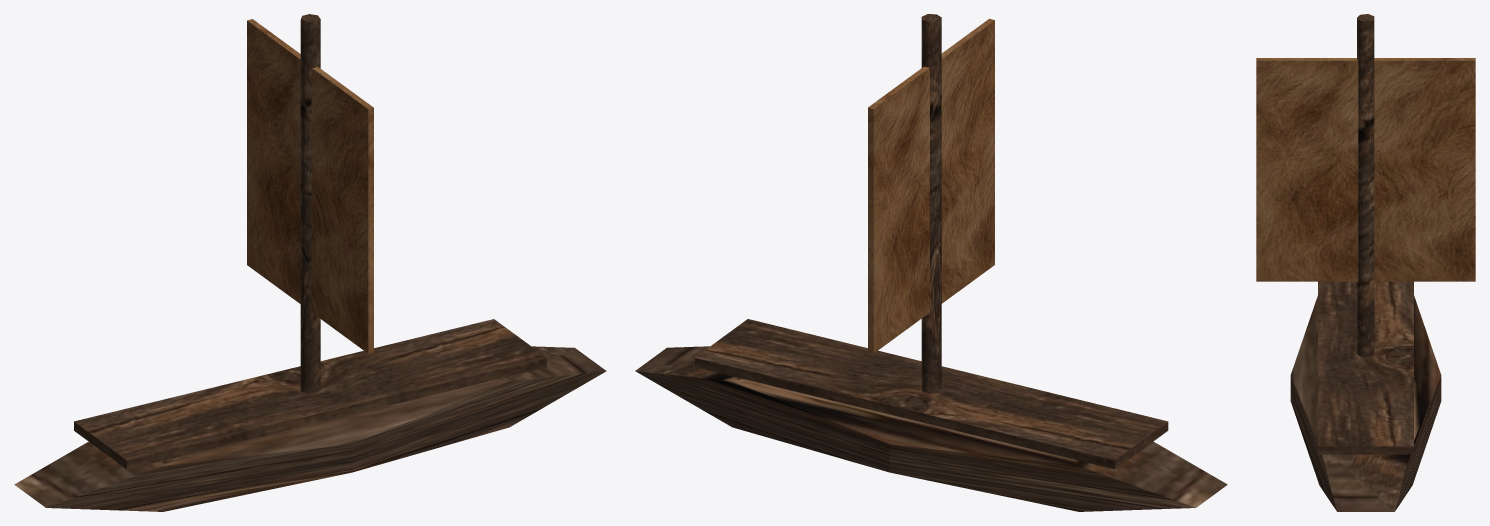
The model's file is boat.glb.
The picture shows the model from 3 angles, left to right: view 1: azimuth 30°, elevation 25°; view 2: azimuth 150°, elevation 25°; view 3: azimuth 270°, elevation 25°; orthographic projection. The views are drawn at different scales.
Parts seen in each view (by area): view 1: part_0, part_1; view 2: part_0, part_1; view 3: part_1, part_0.
Boxes of the visible parts, left/top/right/bottom form: part_0: left=14, top=14, right=606, bottom=511; part_1: left=247, top=19, right=373, bottom=353; part_0: left=635, top=14, right=1227, bottom=511; part_1: left=868, top=18, right=994, bottom=353; part_1: left=1256, top=58, right=1475, bottom=281; part_0: left=1290, top=14, right=1441, bottom=511.
Size of the model in its own units: 1.92 by 1.46 by 0.7192.
2 materials, 2 textured.
